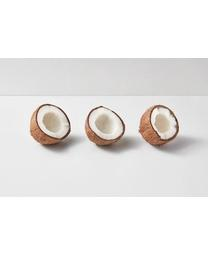coconut: (84, 105, 126, 147), (137, 105, 180, 146), (30, 104, 71, 145)
